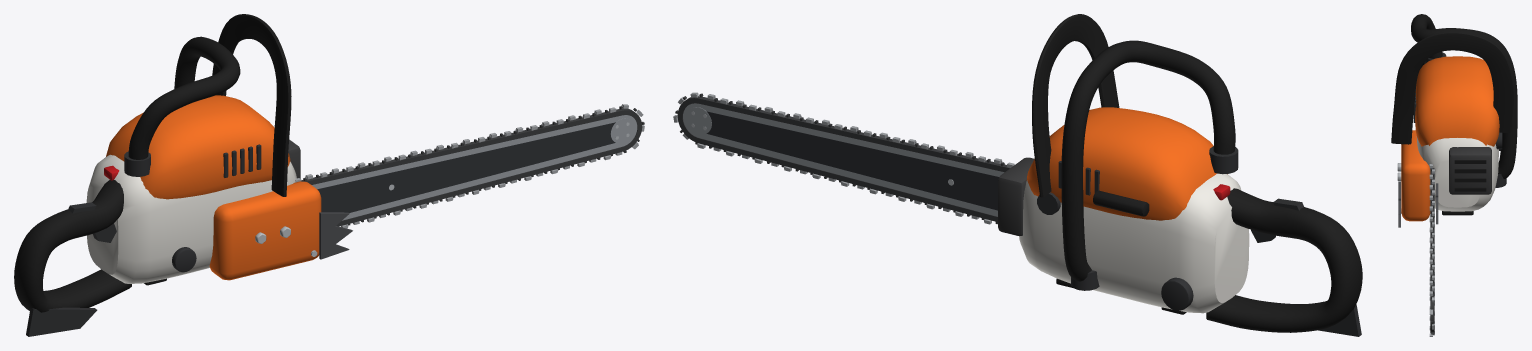
The model's file is chainsaw.glb.
The picture shows the model from 3 angles, left to right: view 1: azimuth 30°, elevation 25°; view 2: azimuth 150°, elevation 25°; view 3: azimuth 270°, elevation 25°; orthographic projection. The views are drawn at different scales.
Visible parts, largest first — view 1: Body, Bar, Chain; view 2: Body, Bar, Chain; view 3: Body, Chain.
Boxes of the visible parts, left/top/right/bottom form: Body: left=14, top=14, right=352, bottom=336; Bar: left=312, top=115, right=637, bottom=220; Chain: left=295, top=104, right=644, bottom=228; Body: left=998, top=14, right=1362, bottom=336; Bar: left=683, top=103, right=1004, bottom=216; Chain: left=673, top=92, right=1014, bottom=224; Body: left=1391, top=14, right=1517, bottom=227; Chain: left=1429, top=164, right=1434, bottom=336.
Bounding box in the file's own units: 0.9078 × 0.3409 × 0.1995.
